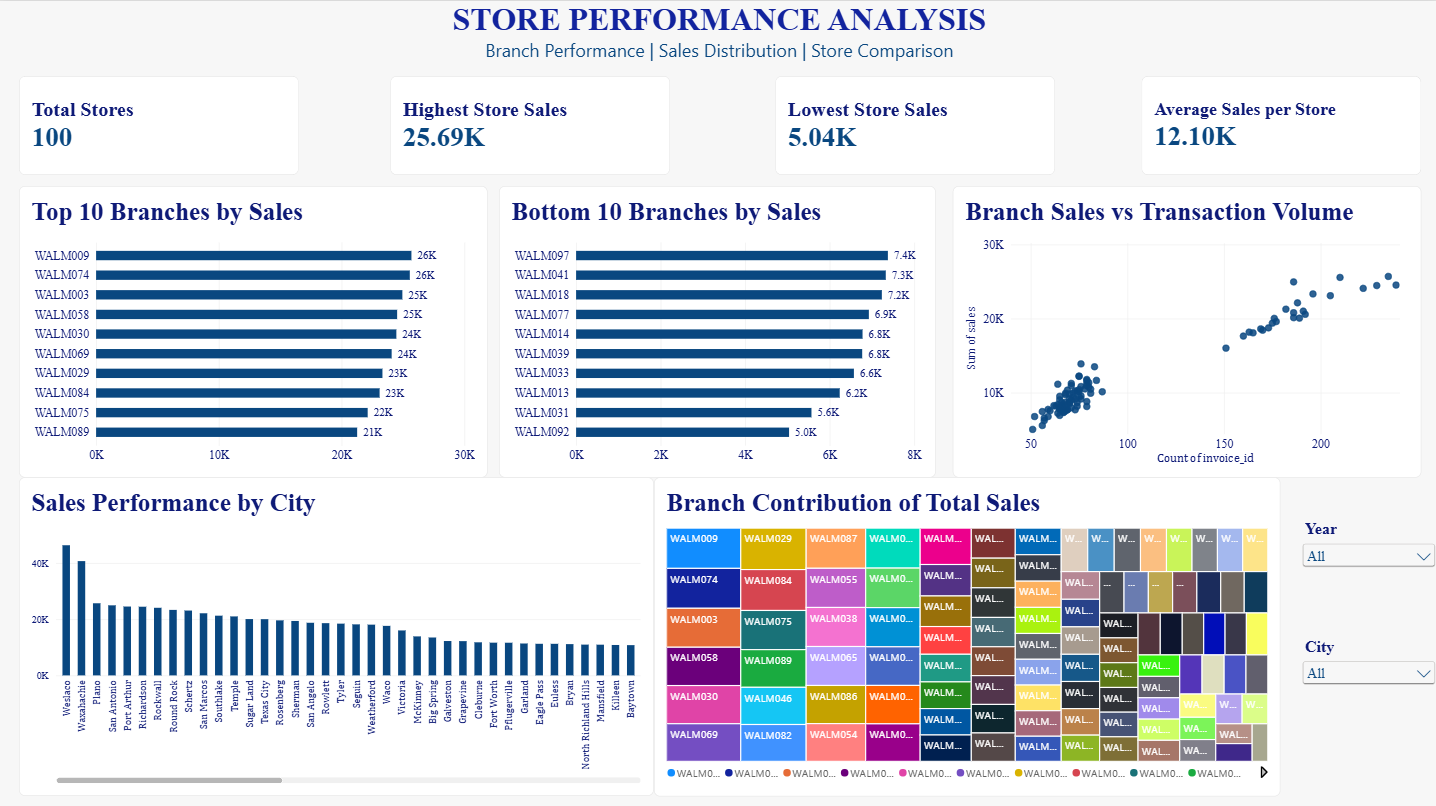

What the dashboard file says about the page in this screenshot:
{"tool":"powerbi","page":{"name":"Store Performance Analysis","canvas":[1920,1080],"ordinal":2},"visuals":[{"type":"textbox","box":[419.6,0,1080.8,100],"z":0},{"type":"cardVisual","fields":{"Data":["walmart_cleaned.Total Stores"]},"box":[26.9,100,373.1,132.7],"z":1},{"type":"cardVisual","fields":{"Data":["walmart_cleaned.Highest Store Sales"]},"box":[521.2,100,373.1,132.7],"z":2},{"type":"cardVisual","fields":{"Data":["walmart_cleaned.Lowest Store Sales"]},"box":[1034.6,100,373.1,132.7],"z":3},{"type":"cardVisual","fields":{"Data":["walmart_cleaned.Average Sales per Store"]},"box":[1523.1,100,373.1,132.7],"z":4},{"type":"clusteredBarChart","title":"\tTop 10 Branches by Sales","fields":{"Category":["walmart_cleaned.Branch"],"Y":["Sum(walmart_cleaned.sales)"]},"box":[26.9,246.2,625,388.5],"z":5},{"type":"clusteredBarChart","title":"\tBottom 10 Branches by Sales","fields":{"Category":["walmart_cleaned.Branch"],"Y":["Sum(walmart_cleaned.sales)"]},"box":[667.3,246.2,582.7,388.5],"z":6},{"type":"clusteredColumnChart","title":"\tSales Performance by City","fields":{"Category":["walmart_cleaned.City"],"Y":["Sum(walmart_cleaned.sales)"]},"box":[26.9,634.6,846.2,425],"z":7},{"type":"scatterChart","title":"\tBranch Sales vs Transaction Volume","fields":{"Category":["walmart_cleaned.Branch"],"X":["CountNonNull(walmart_cleaned.invoice_id)"],"Y":["Sum(walmart_cleaned.sales)"]},"box":[1271.2,246.2,625,388.5],"z":8},{"type":"slicer","fields":{"Values":["walmart_cleaned.year"]},"box":[1732.7,692.3,186.5,80.8],"z":10},{"type":"slicer","fields":{"Values":["walmart_cleaned.City"]},"box":[1732.7,848.1,186.5,84.6],"z":11},{"type":"treemap","title":"Branch Contribution of Total Sales","fields":{"Group":["walmart_cleaned.Branch"],"Values":["Sum(walmart_cleaned.sales)"]},"box":[873.8,634.9,835.5,425.6],"z":12}]}

Visuals, with their boxes in screenshot pixels (x1, y1, x2, y2), scaled from the page's 1920x1080 canvas onto the 1436x806 screenshot:
textbox: [314, 0, 1122, 75]
cardVisual - walmart_cleaned.Total Stores: [20, 75, 299, 174]
cardVisual - walmart_cleaned.Highest Store Sales: [390, 75, 669, 174]
cardVisual - walmart_cleaned.Lowest Store Sales: [774, 75, 1053, 174]
cardVisual - walmart_cleaned.Average Sales per Store: [1139, 75, 1418, 174]
"	Top 10 Branches by Sales" clusteredBarChart: [20, 184, 488, 474]
"	Bottom 10 Branches by Sales" clusteredBarChart: [499, 184, 935, 474]
"	Sales Performance by City" clusteredColumnChart: [20, 474, 653, 791]
"	Branch Sales vs Transaction Volume" scatterChart: [951, 184, 1418, 474]
slicer - walmart_cleaned.year: [1296, 517, 1435, 577]
slicer - walmart_cleaned.City: [1296, 633, 1435, 696]
"Branch Contribution of Total Sales" treemap: [654, 474, 1278, 791]
